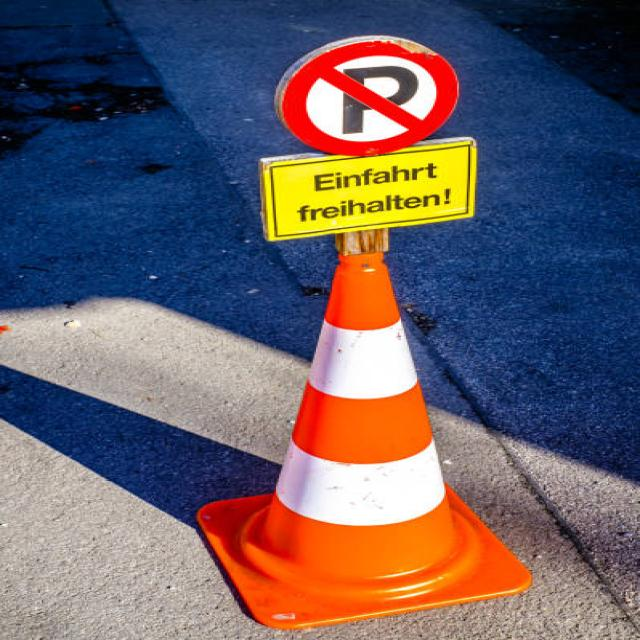Traffic Cone: (182, 235, 542, 640)
